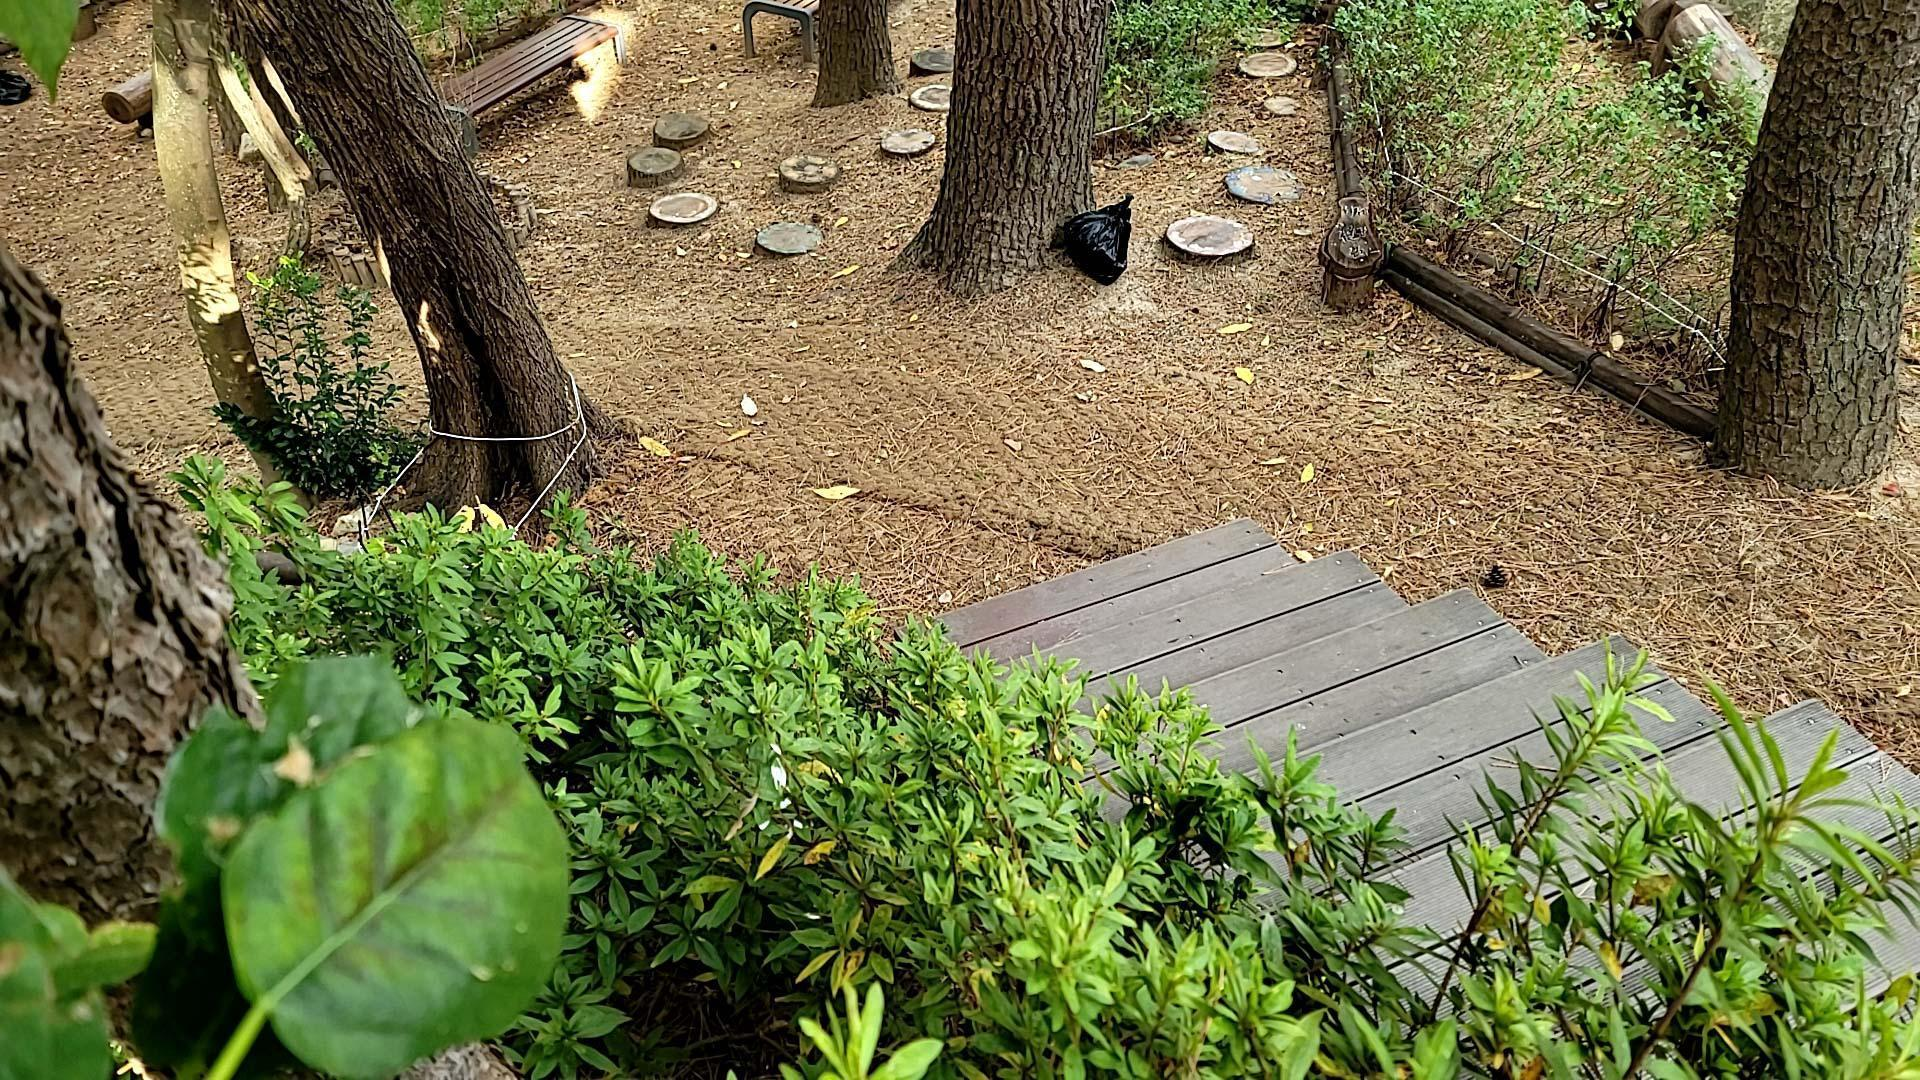black_bag: (1051, 189, 1139, 290)
